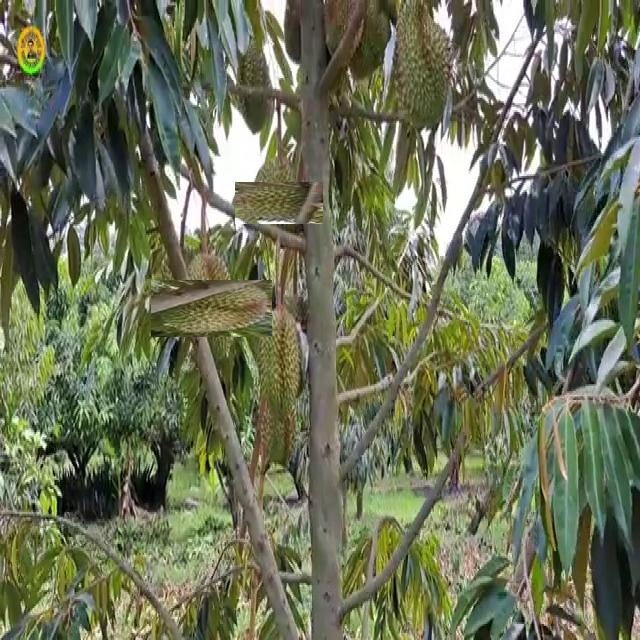durian: (390, 0, 454, 142), (167, 264, 256, 354), (255, 302, 306, 424), (247, 170, 312, 236)
